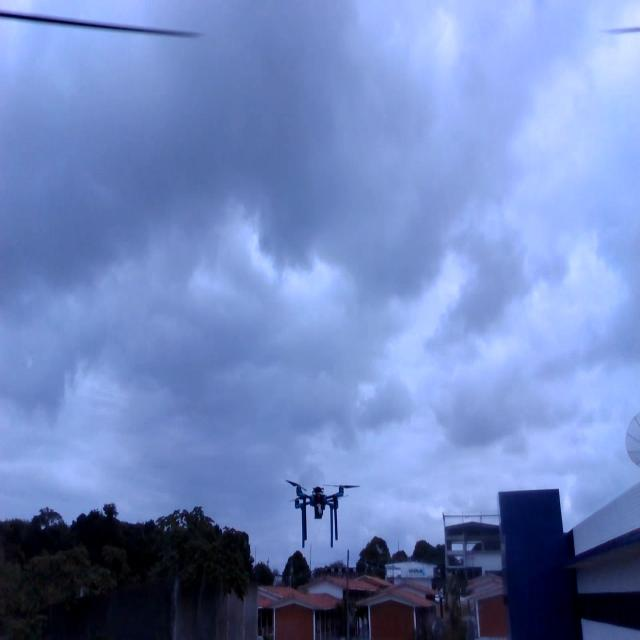-uav-: (268, 440, 372, 576)
